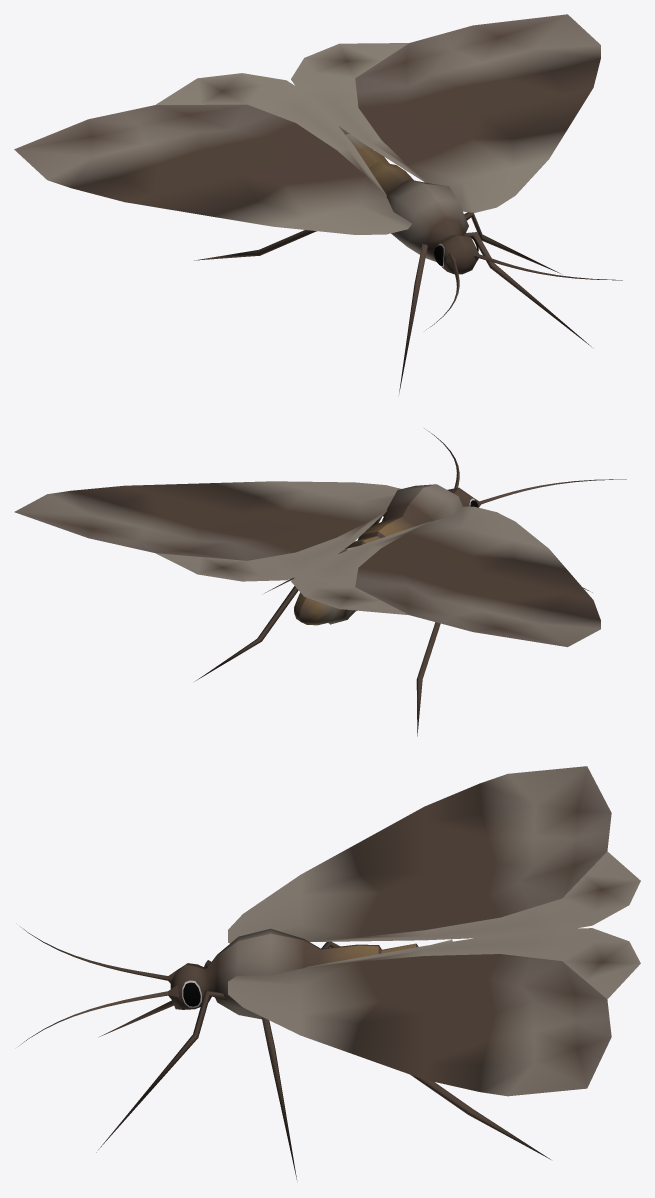
The model's file is kit-moth.glb.
The picture shows the model from 3 angles, top to bottom: view 1: azimuth 30°, elevation 25°; view 2: azimuth 150°, elevation 25°; view 3: azimuth 270°, elevation 25°; orthographic projection. The views are drawn at different scales.
Parts seen in each view (by area): view 1: base; view 2: base; view 3: base.
Part boxes in pixels (<box>): base: <box>14,14,622,393</box>; base: <box>14,428,626,736</box>; base: <box>18,766,640,1179</box>.
Size of the model in its own units: 0.4425 by 0.1111 by 0.3636.
